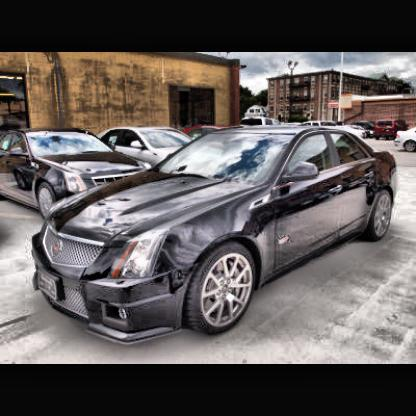Cadillac CTS-V Sedan 2012: (30, 117, 399, 343)
